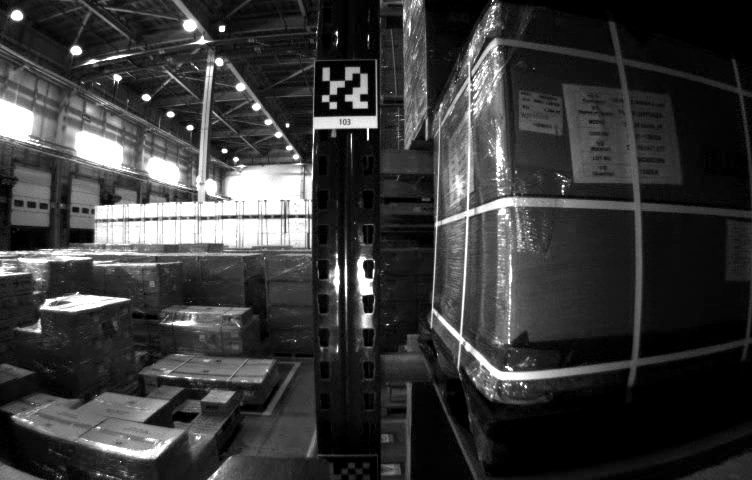True Barcode: (518, 89, 562, 139)
